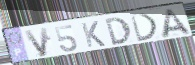5: (53, 24, 79, 53)
A: (161, 7, 194, 39)
D: (129, 12, 160, 43), (103, 16, 133, 46)
K: (80, 20, 107, 49)
V: (23, 26, 50, 58)
